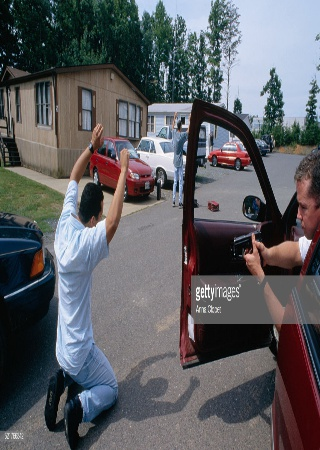handgun: (229, 226, 265, 259)
